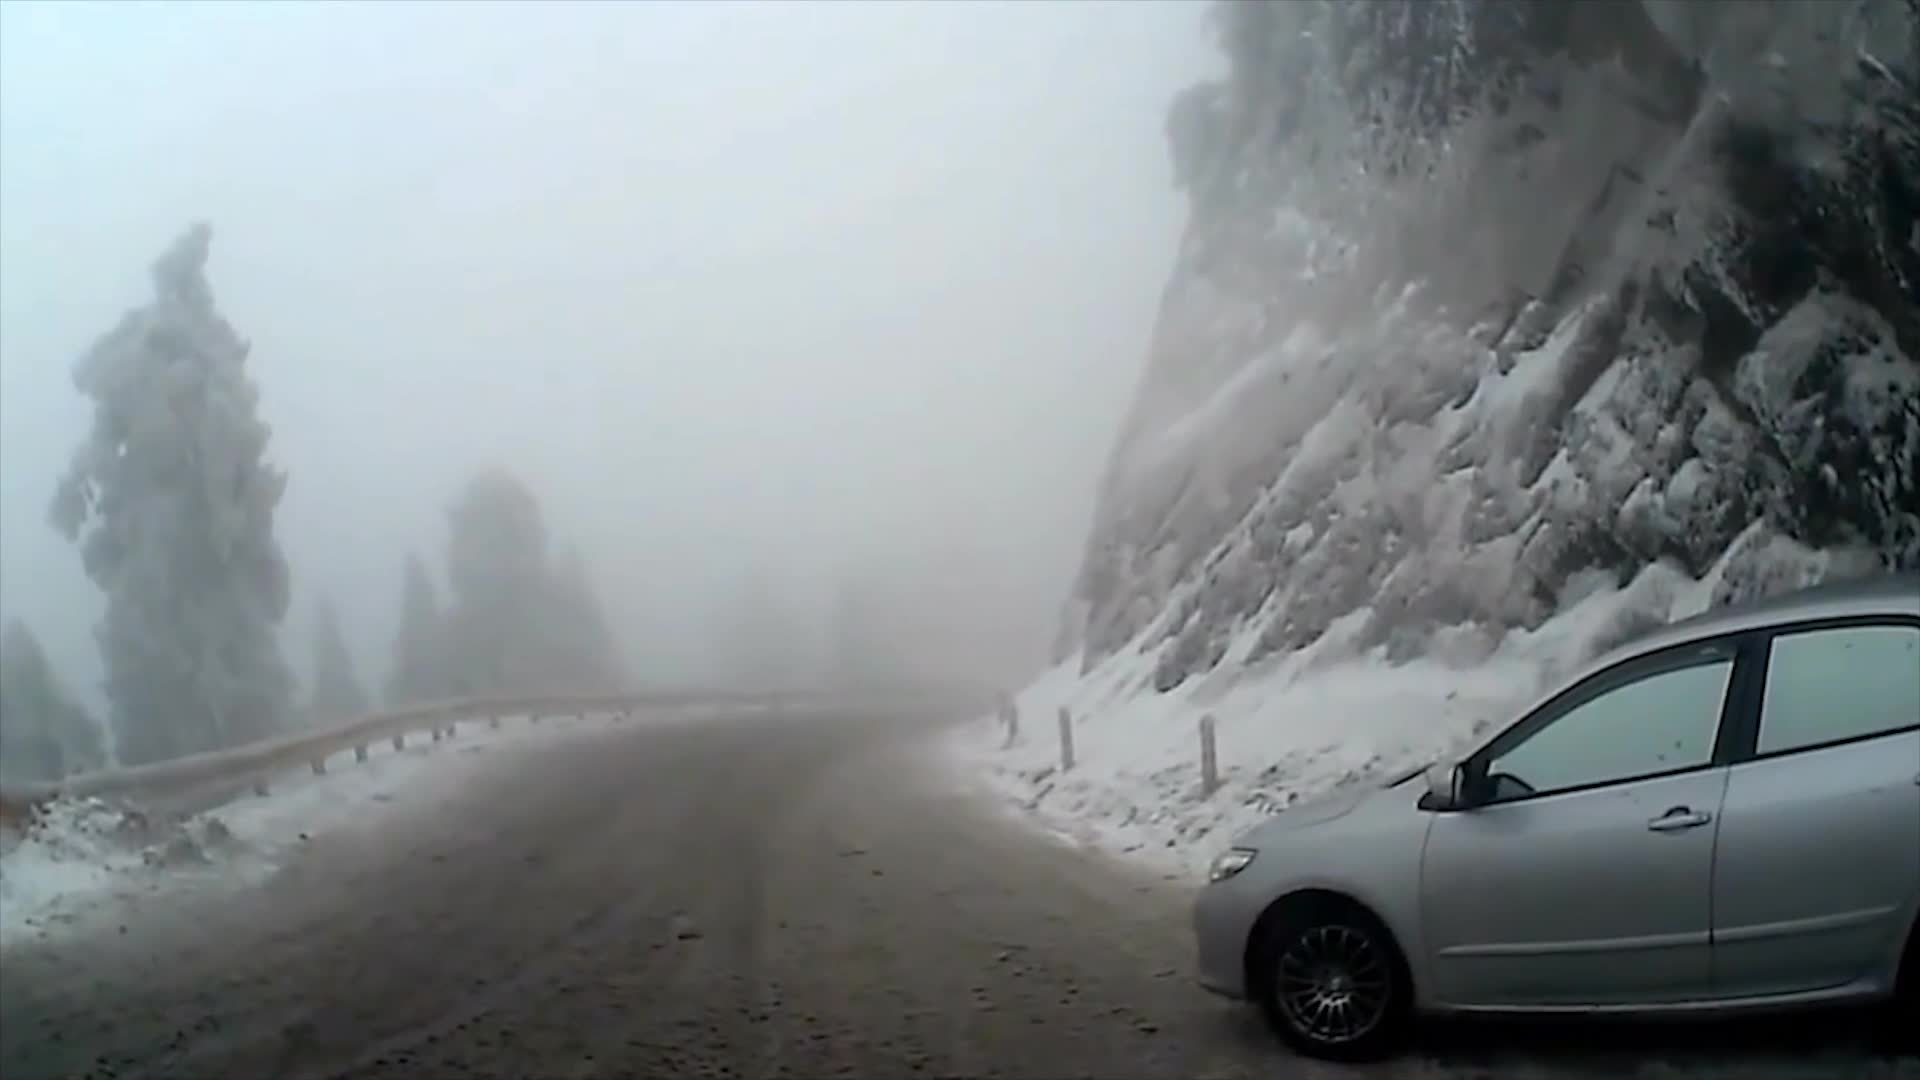vehicle: (1189, 574, 1920, 1080)
